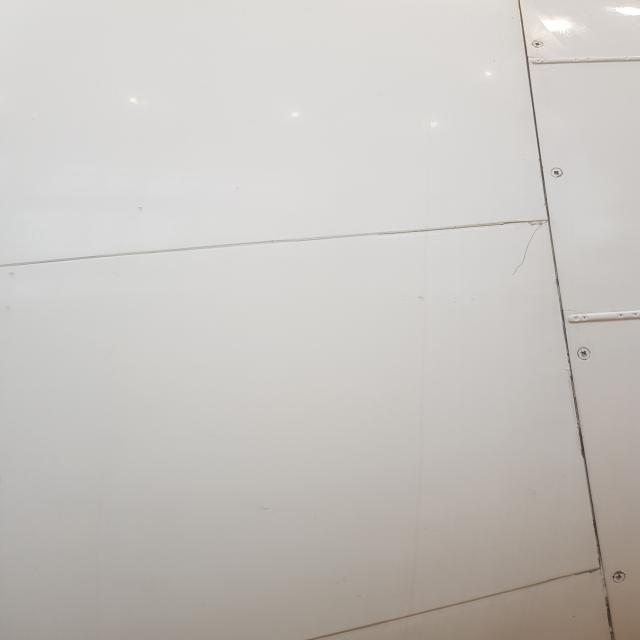Rupture: (503, 219, 556, 274)
